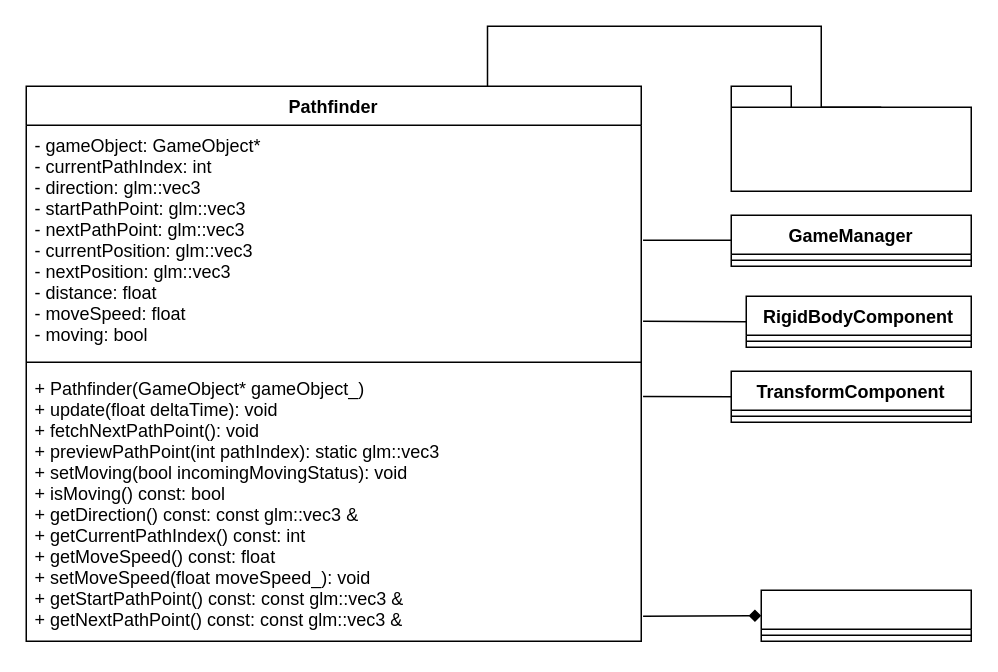
The diagram is 998 pixels wide and 672 high, and some of its shapes have lost their labels. The shapes that lost their labels are listed below. From the top down, each one's centre as x and y in pixels, then its label:
At point (850, 138): "OpenGL Mathematics".
At point (865, 615): "EnemyComponent".
